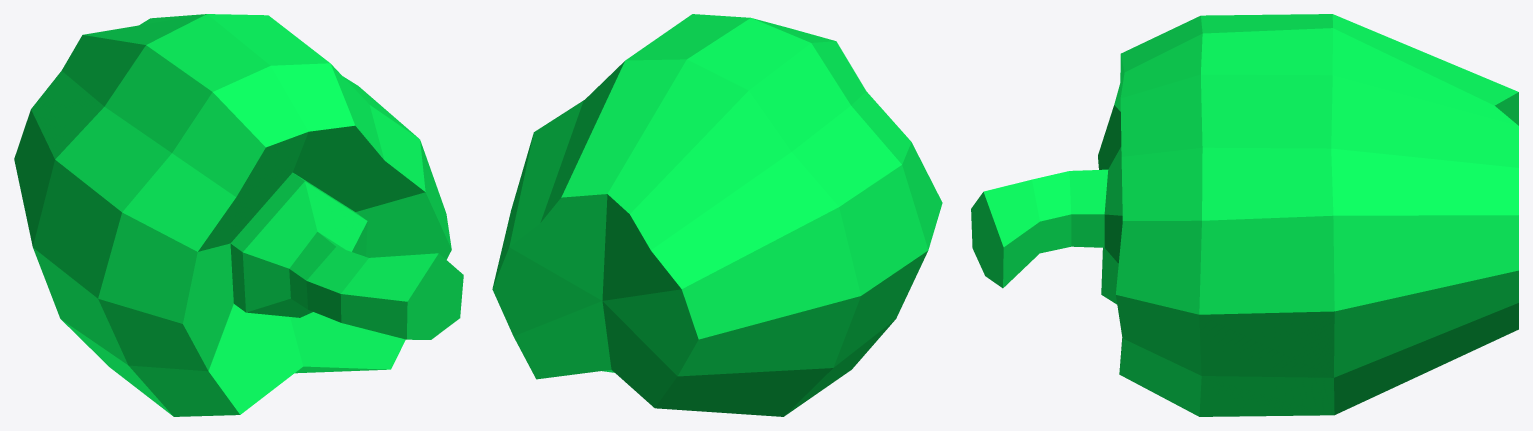
Rendered from GreenPepper_ani.fbx.
3 views of the same model, side by side, from view 1: azimuth 30°, elevation 25°; view 2: azimuth 150°, elevation 25°; view 3: azimuth 270°, elevation 25° (orthographic). The views are drawn at different scales.
Visible parts, largest first — view 1: Sphere; view 2: Sphere; view 3: Sphere.
Part boxes in pixels (box(x1,y1,x2,y2)): Sphere: box(14, 14, 463, 416); Sphere: box(492, 14, 942, 416); Sphere: box(971, 14, 1518, 416).
Size of the model in its own units: 195 by 177 by 258.
